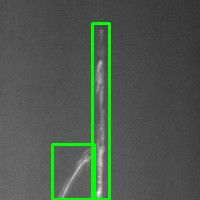scratches: (92, 23, 109, 199), (52, 144, 94, 199)
